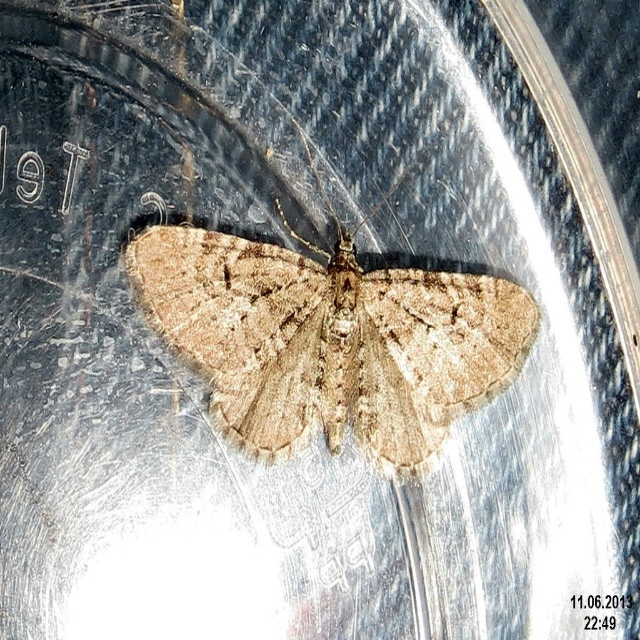Butterfly: (120, 182, 537, 484)
